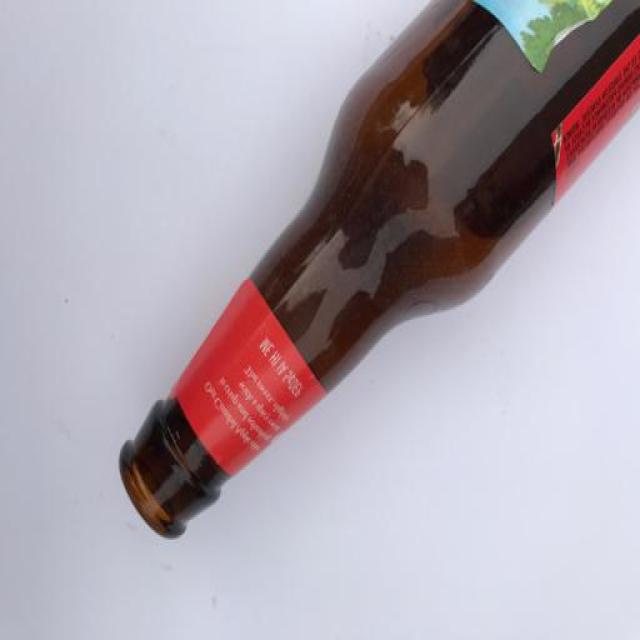glass: (117, 1, 640, 540)
